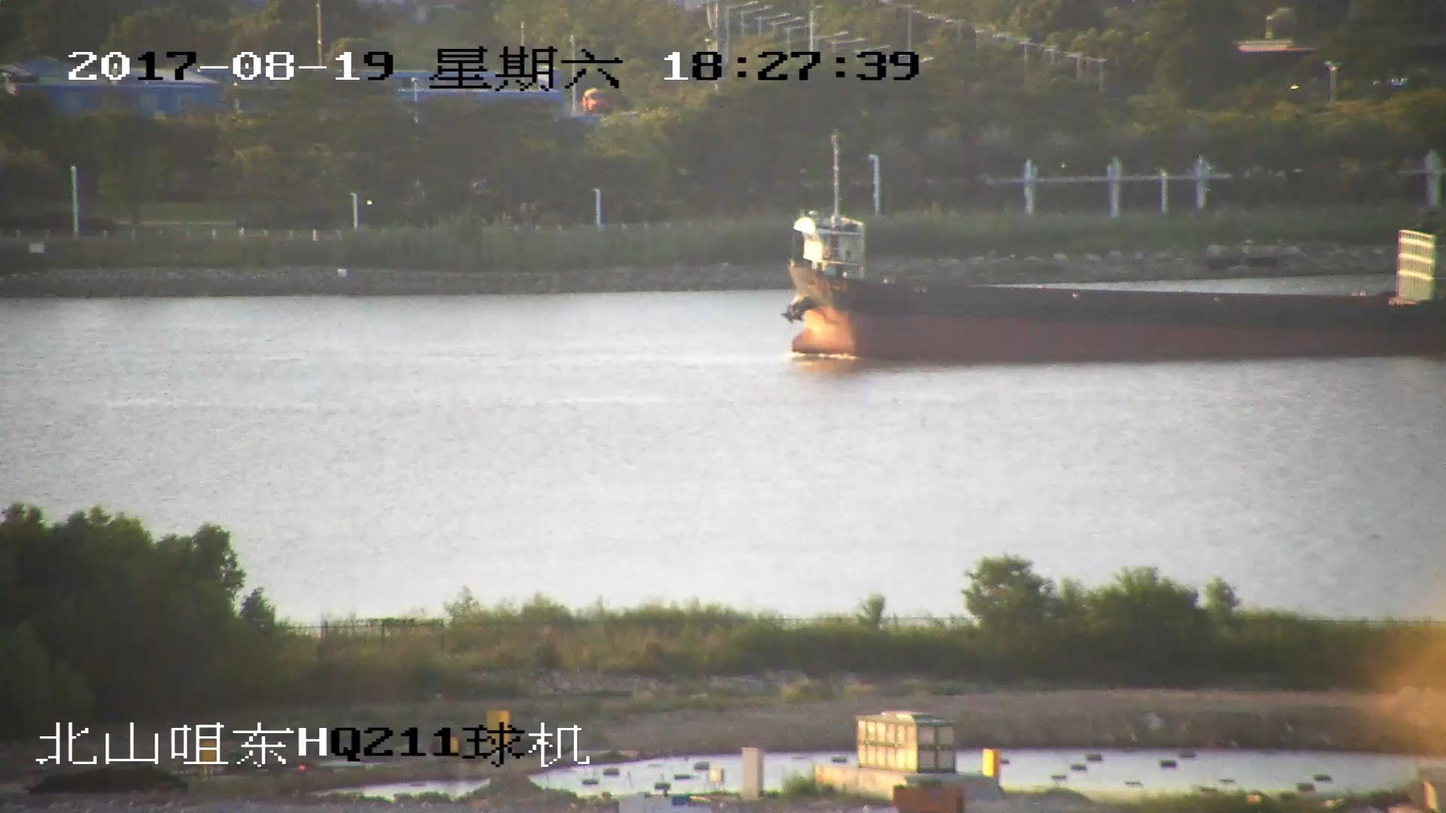general cargo ship: (789, 212, 1445, 359)
